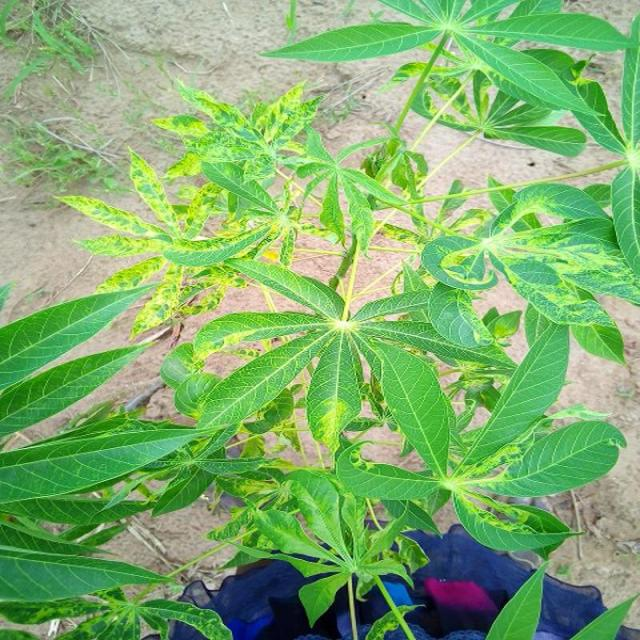cassava leaf: (3, 2, 639, 638)
